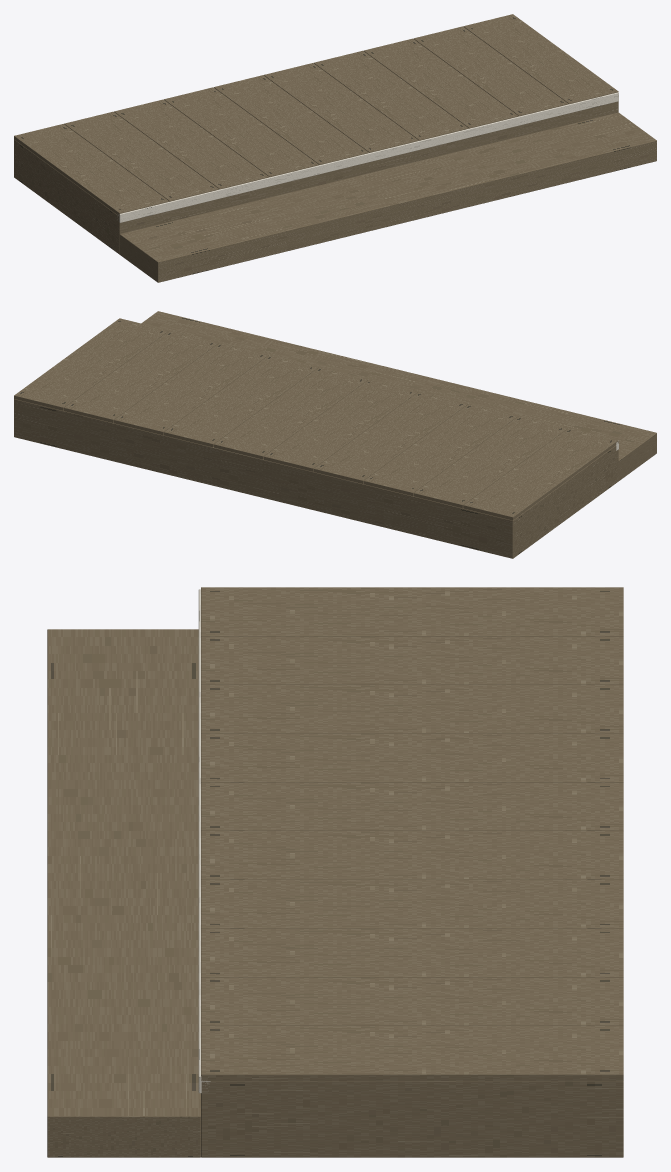
The model's file is house_03_porch_deck.glb.
3 renders of one model, top to bottom at view 1: azimuth 30°, elevation 25°; view 2: azimuth 150°, elevation 25°; view 3: azimuth 270°, elevation 25°, orthographic. The views are drawn at different scales.
Parts seen in each view (by area): view 1: house_03_porch_deck; view 2: house_03_porch_deck; view 3: house_03_porch_deck.
Boxes of the visible parts, <box> form: house_03_porch_deck: <box>14,14,656,282</box>; house_03_porch_deck: <box>14,311,656,558</box>; house_03_porch_deck: <box>47,587,623,1157</box>.
Bounding box in the file's own units: 3 × 0.24 × 1.5.
2 materials, 2 textured.
